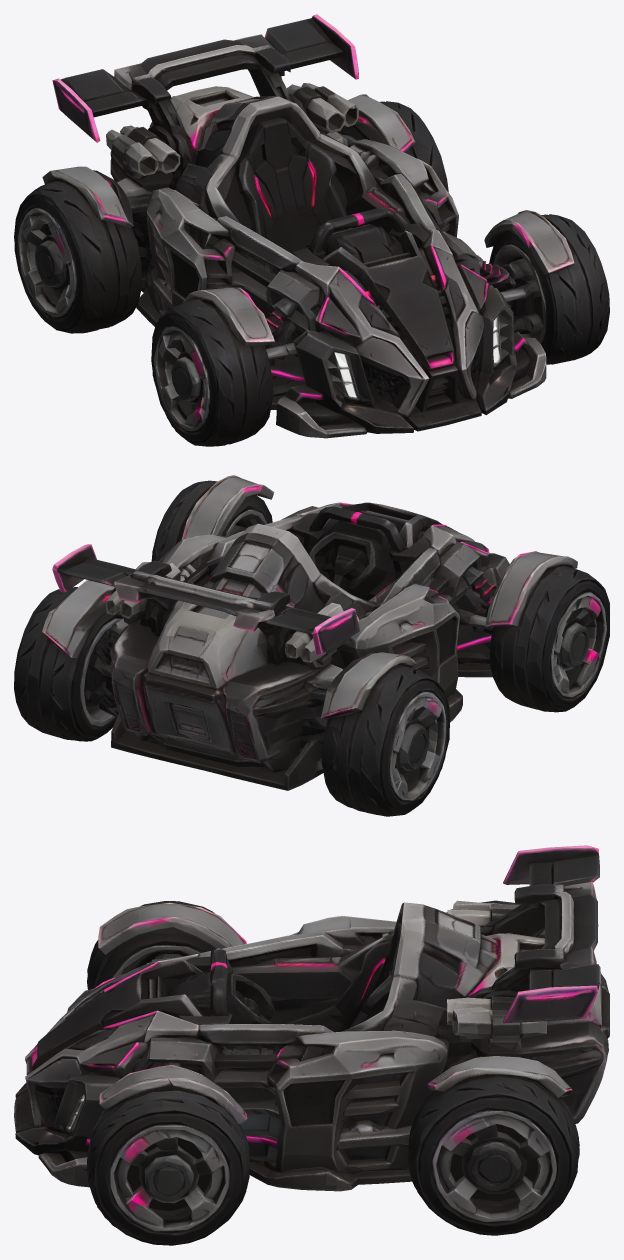
File: 08-obsidian-pulse-pbr.glb
3 views of the same model, one above another, from view 1: azimuth 30°, elevation 25°; view 2: azimuth 150°, elevation 25°; view 3: azimuth 270°, elevation 25° (orthographic). The views are drawn at different scales.
Parts seen in each view (by area): view 1: model; view 2: model; view 3: model.
Boxes of the visible parts, left/top/right/bottom form: model: left=14, top=14, right=609, bottom=446; model: left=14, top=475, right=609, bottom=816; model: left=14, top=845, right=609, bottom=1245.
Bounding box in the file's own units: 1.61 × 0.8207 × 1.89.
1 material, 1 textured.
